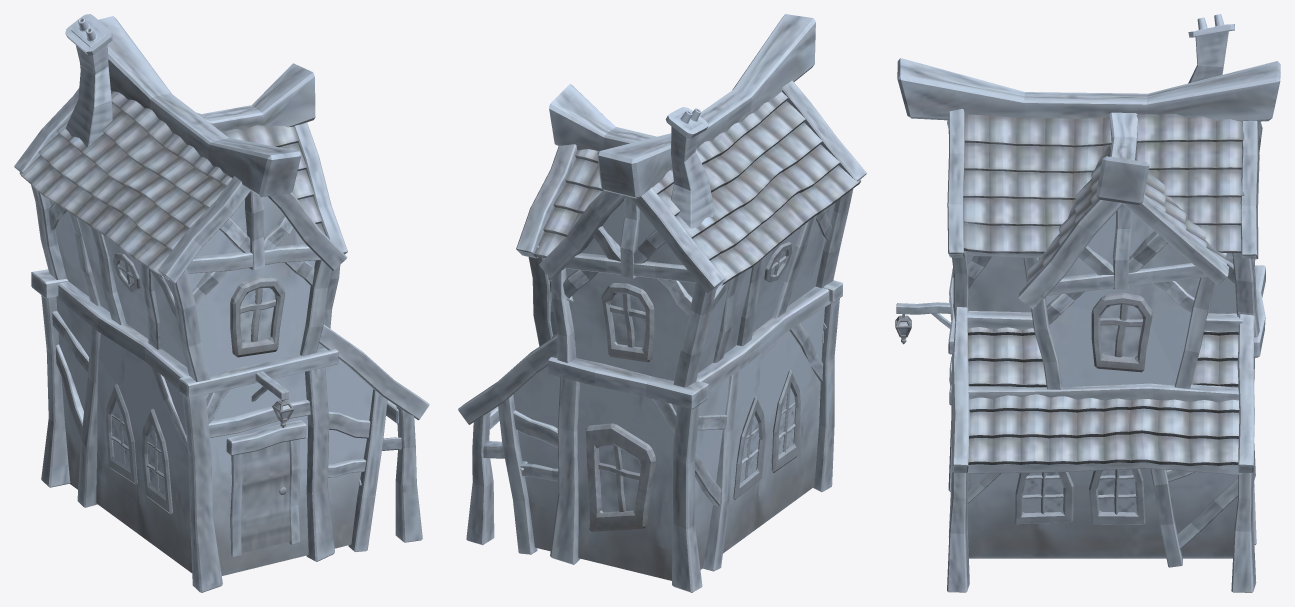
The model's file is CrypteBlanche.glb.
3 views of the same model, side by side, from view 1: azimuth 30°, elevation 25°; view 2: azimuth 150°, elevation 25°; view 3: azimuth 270°, elevation 25° (orthographic). The views are drawn at different scales.
Visible parts, largest first — view 1: CrypteBlanche; view 2: CrypteBlanche; view 3: CrypteBlanche.
Boxes of the visible parts, x1,y1,x2,y2 form: CrypteBlanche: (14, 14, 429, 592); CrypteBlanche: (458, 14, 866, 592); CrypteBlanche: (895, 14, 1280, 592).
Bounding box in the file's own units: 6.1 × 10.24 × 7.48.
1 material, 1 textured.
